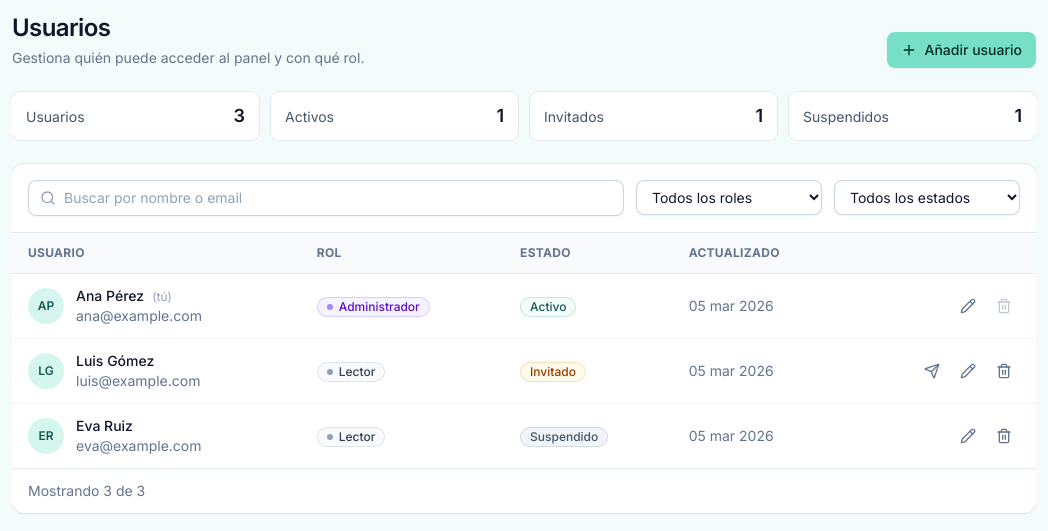
Scenario: UsersView › quita un filtro con su cruz y vuelve a mostrar a todos
The width and height of the screenshot is (1048, 531).
Select "Lector" in the 1st dropdown named "Filtrar por rol" at {"x": 729, "y": 198}, box x1=636 y1=180 x2=822 y2=215
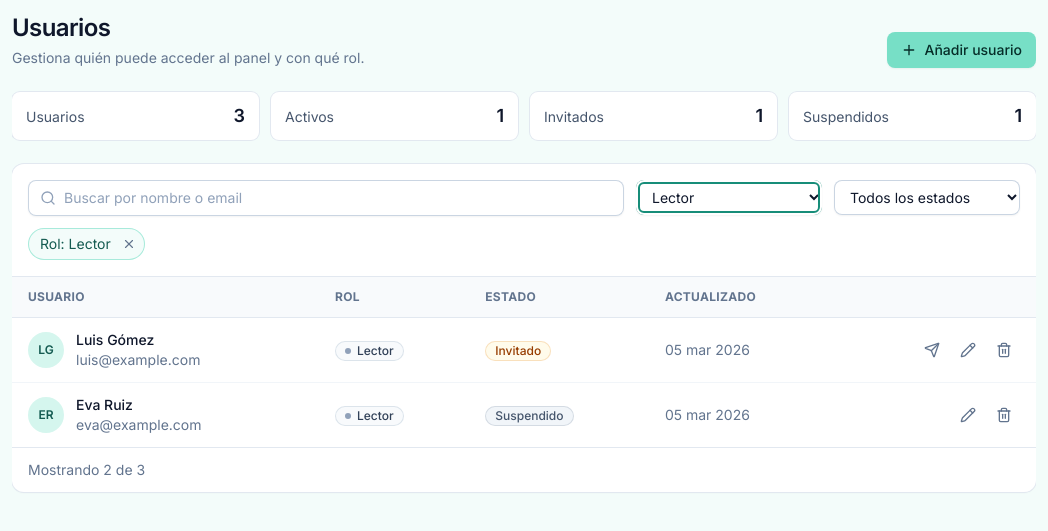
Check: the text "Mostrando 2 de 3" is shown, box x1=12 y1=447 x2=1036 y2=492
Click the button named "Quitar filtro Rol: Lector" at {"x": 129, "y": 244}, box x1=113 y1=228 x2=145 y2=260
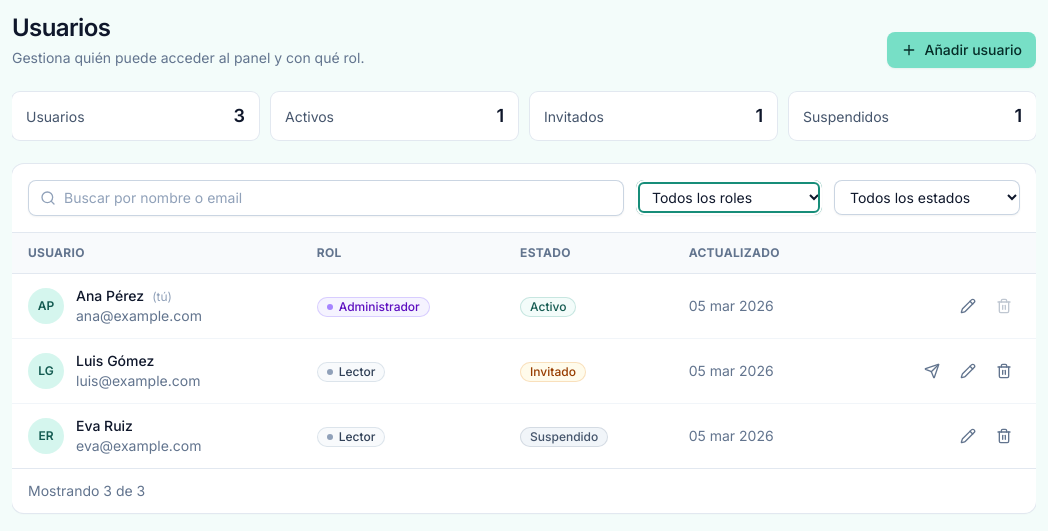
Check: the text "Mostrando 3 de 3" is shown, box x1=12 y1=468 x2=1036 y2=513
